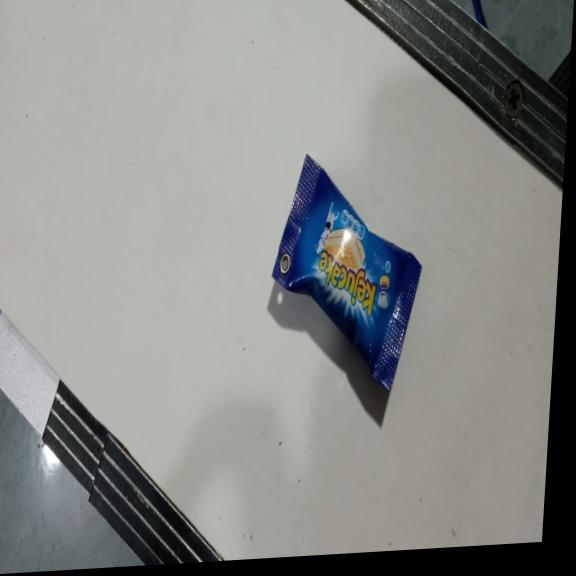Plastik: (264, 145, 430, 402)
